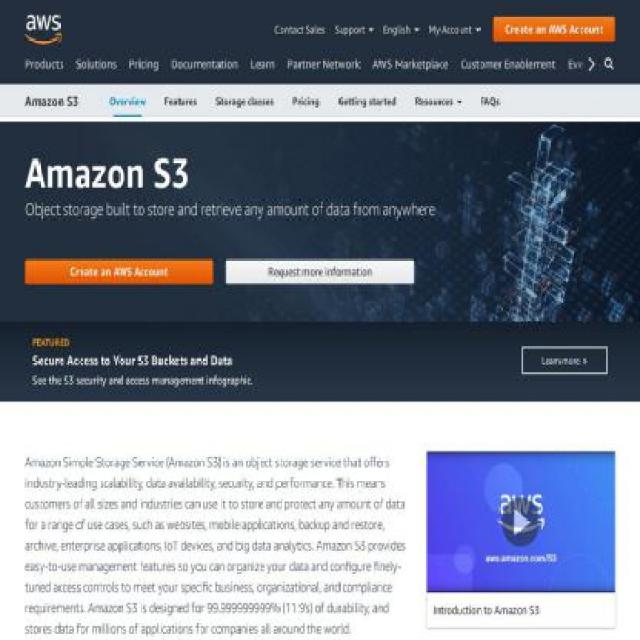button: (0, 322, 640, 403), (25, 259, 214, 284), (226, 259, 414, 284), (455, 53, 562, 92), (366, 53, 454, 92), (282, 53, 366, 92), (493, 16, 615, 42), (165, 53, 244, 92), (328, 84, 406, 116), (206, 84, 283, 116), (69, 53, 123, 92), (406, 84, 471, 116), (19, 53, 70, 92), (502, 497, 540, 548), (100, 84, 155, 116), (122, 53, 166, 92), (155, 84, 207, 116), (562, 53, 603, 92), (244, 53, 282, 92), (283, 84, 329, 116), (602, 54, 640, 92), (471, 84, 509, 116), (424, 19, 485, 38), (24, 14, 62, 44), (24, 91, 78, 112), (275, 19, 330, 38), (330, 19, 378, 38), (379, 19, 423, 38)
